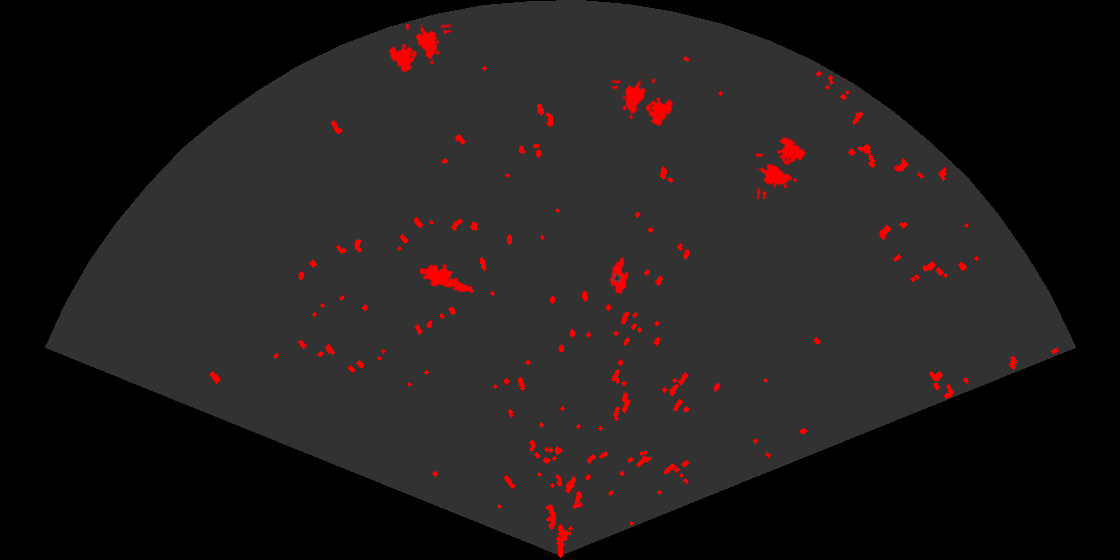AUV: (607, 255, 630, 296)
cage: (756, 135, 807, 199), (387, 24, 451, 74), (612, 79, 675, 128)
frogman: (420, 262, 474, 294)
